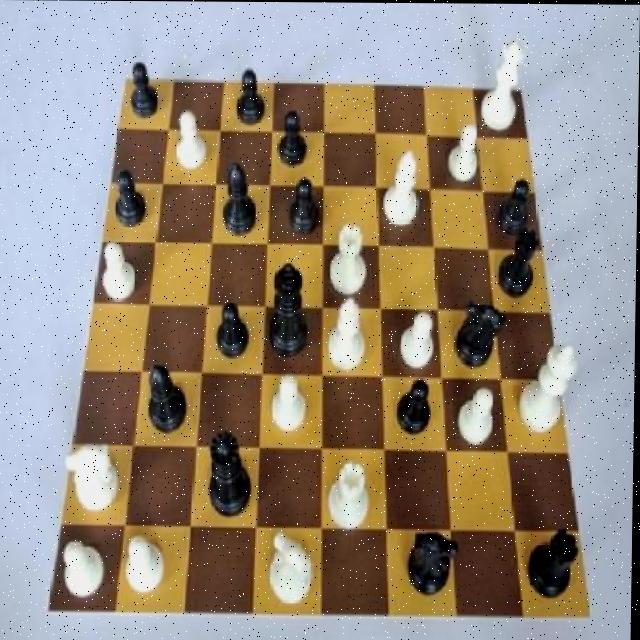bishop: (144, 355, 190, 442), (219, 160, 263, 247)
black-bishop: (263, 254, 319, 367)
black-king: (401, 524, 461, 603), (453, 296, 508, 367)
black-knight: (201, 303, 256, 362), (493, 174, 538, 238), (394, 378, 437, 440), (285, 177, 327, 240), (233, 64, 272, 128), (127, 56, 161, 124), (273, 106, 312, 165), (113, 170, 150, 230)
black-pawn: (201, 421, 257, 523)
black-queen: (523, 522, 588, 609), (495, 231, 545, 303)
black-rook: (380, 145, 429, 230), (329, 294, 375, 372)
white-bishop: (512, 338, 584, 440)
white-king: (67, 433, 124, 516), (264, 530, 323, 609)
white-knight: (121, 527, 172, 607), (56, 533, 109, 603), (451, 386, 502, 451), (268, 369, 314, 436), (395, 309, 441, 373), (443, 124, 486, 188), (173, 109, 209, 178), (102, 241, 139, 303)
white-pawn: (478, 35, 532, 135)
white-queen: (326, 460, 378, 529), (329, 220, 373, 300)
